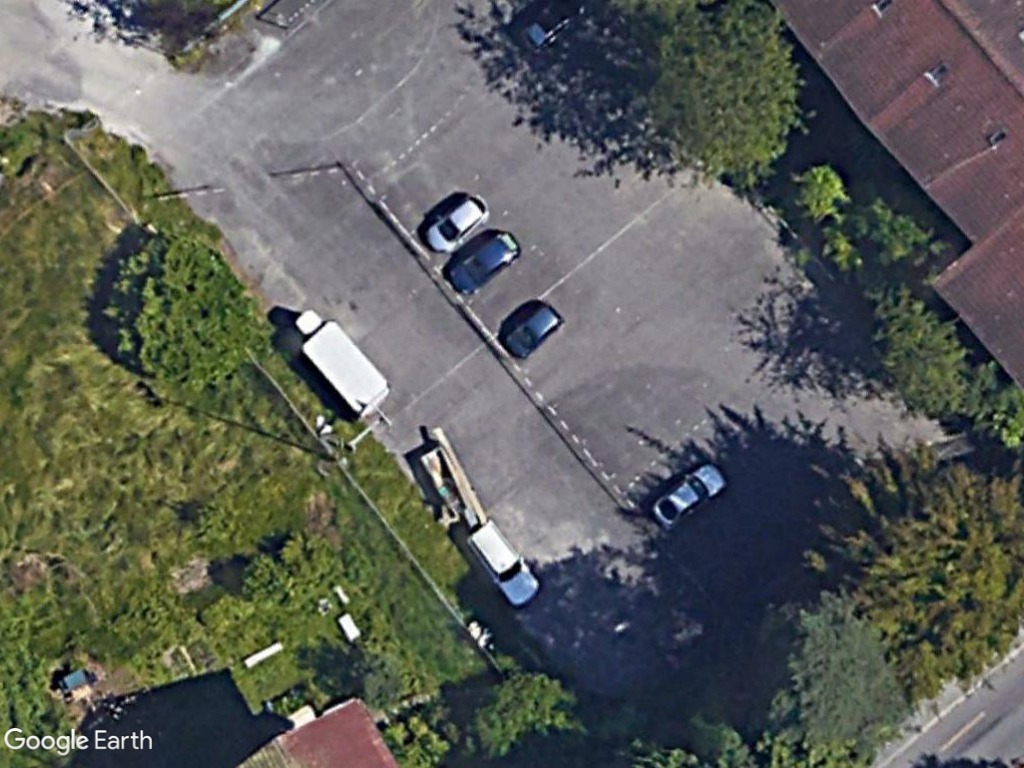car: (463, 518, 542, 611), (644, 462, 728, 532), (444, 230, 522, 297), (422, 190, 492, 257), (500, 301, 567, 360)
truck: (289, 308, 392, 418)
